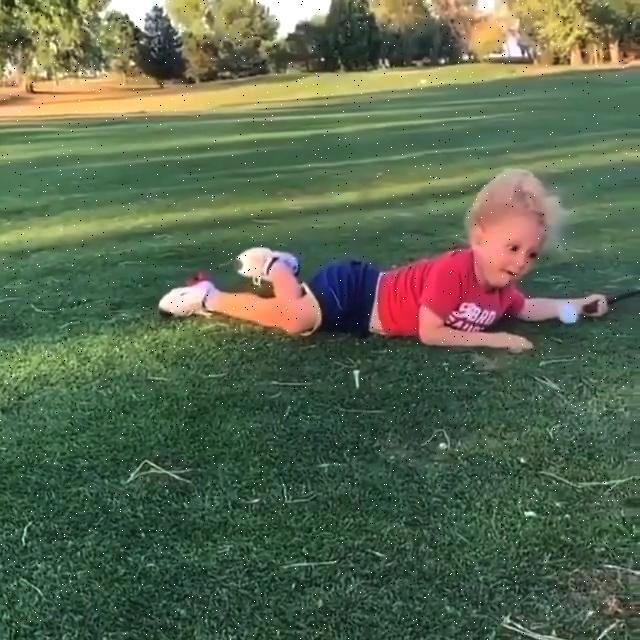GolfBall: (560, 308, 577, 324)
